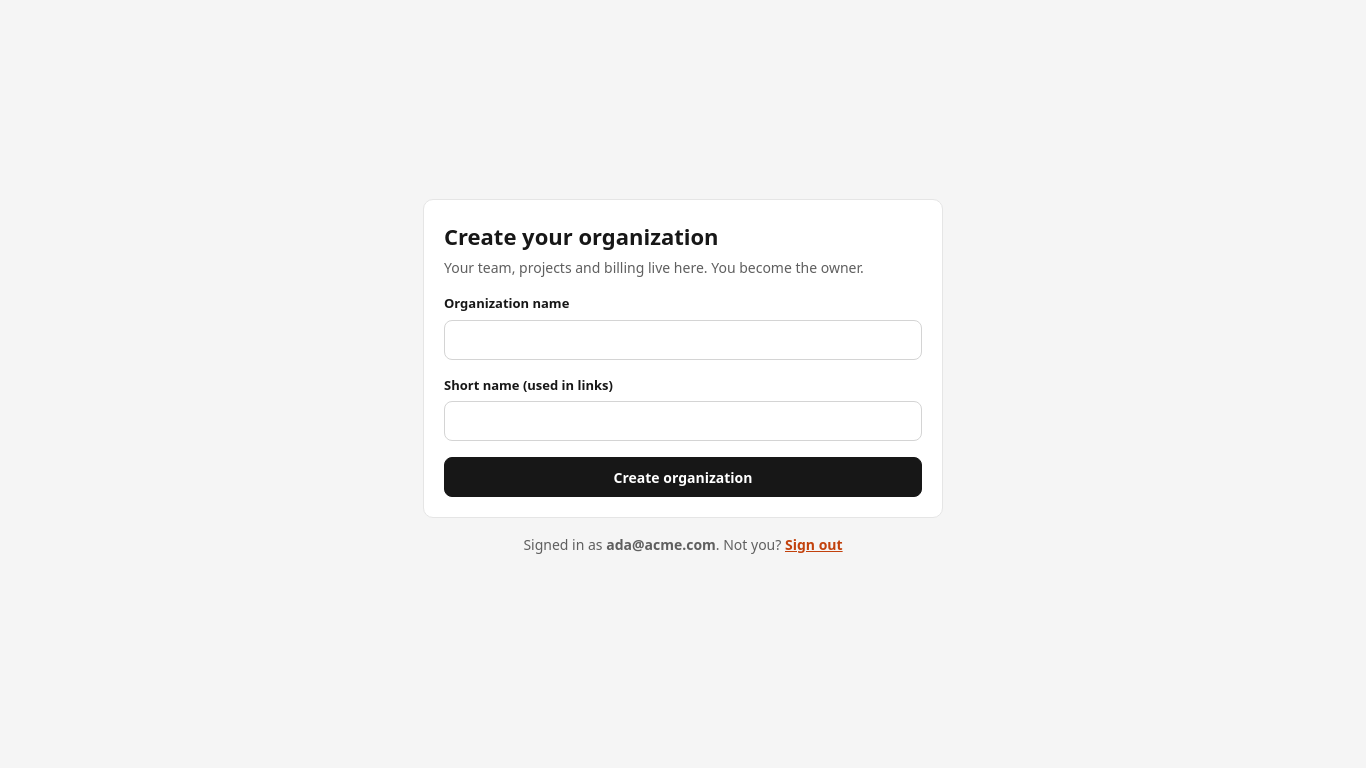
signed in › a new user creates an organization with an automatic short name
This screenshot has width=1366, height=768.
Type "Acme Inc" into the field labelled "Organization name". click: (683, 340)
box: [444,320,922,360]
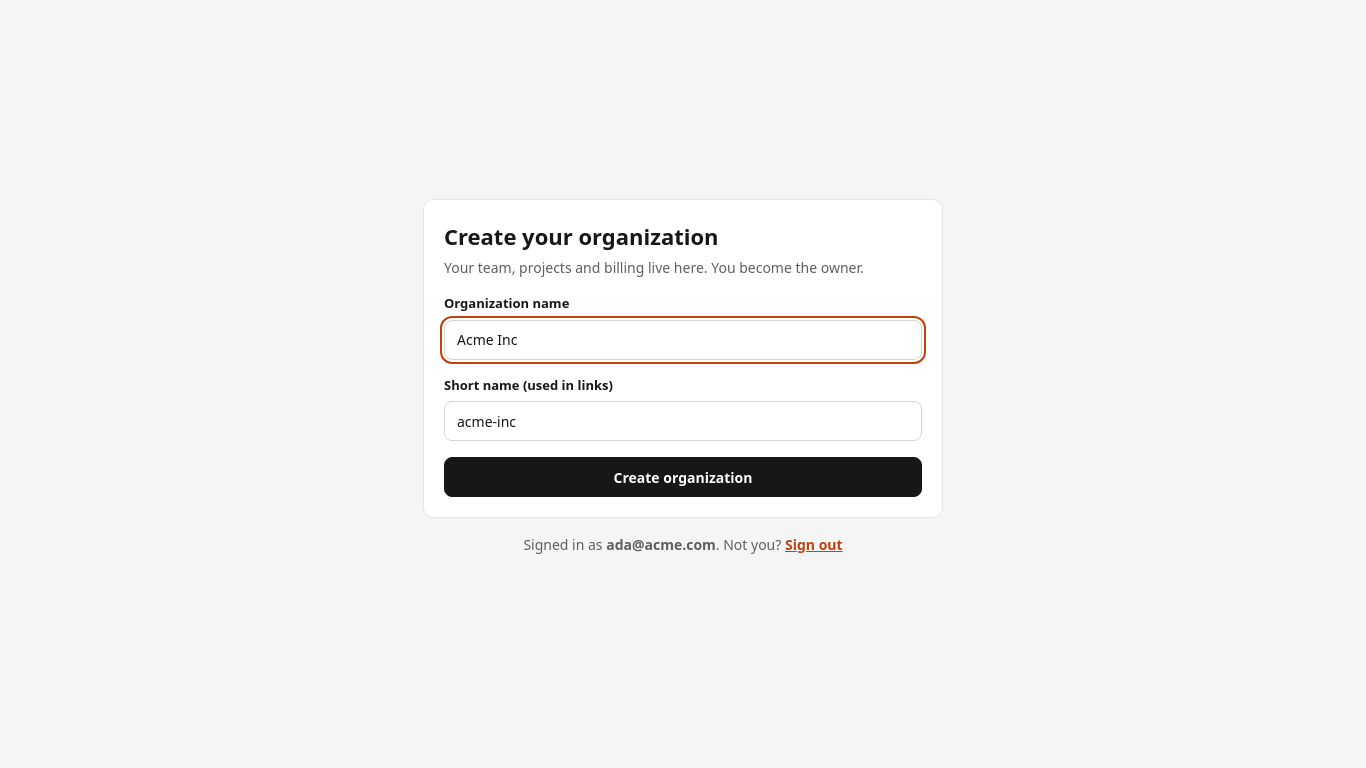
Expected: the field labelled "Short name (used in links)" holds "acme-inc", [444,401,922,441]
Click the button "Create organization". click: (683, 477)
box: [444,457,922,497]
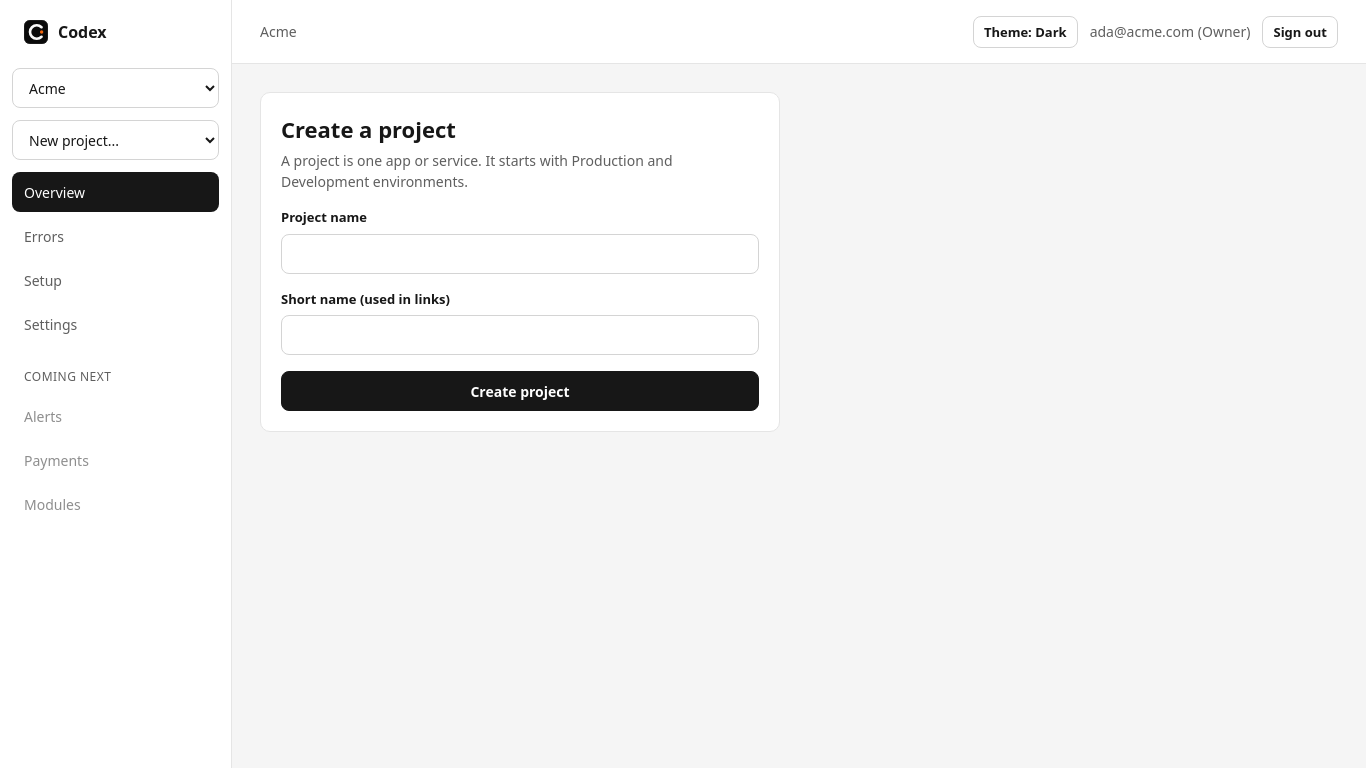
Expected: the heading "Create a project" is shown, [281,114,456,144]
